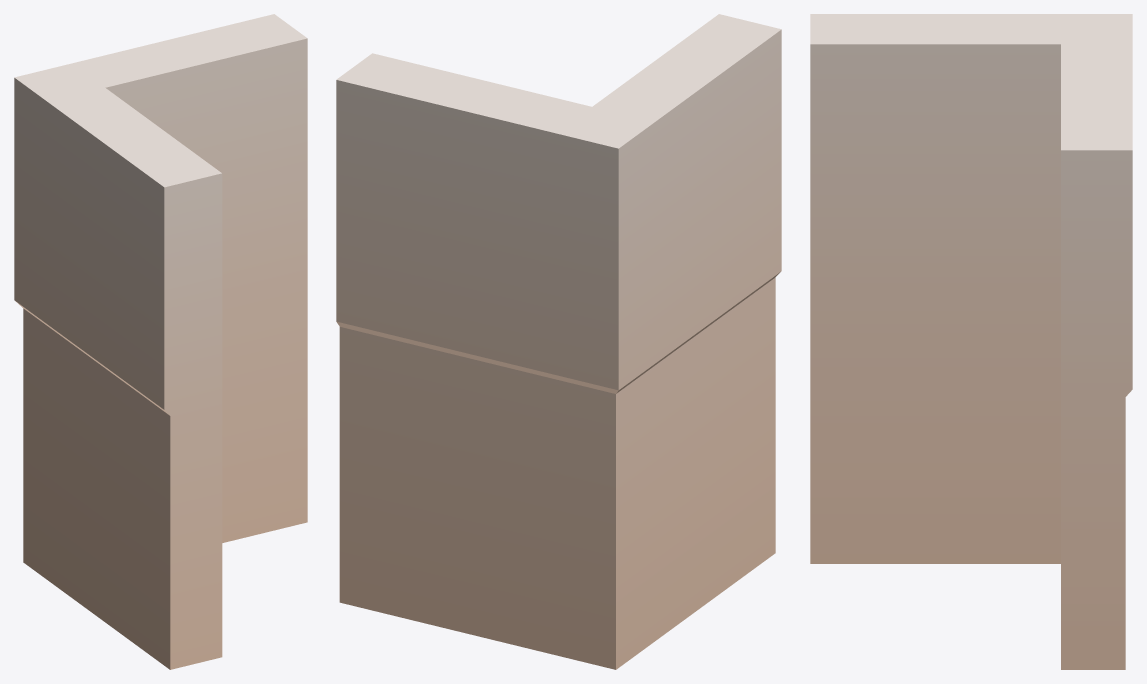
Rendered from Wall Plain Kitchen-Sgh2HG9ERM.glb.
The picture shows the model from 3 angles, left to right: view 1: azimuth 30°, elevation 25°; view 2: azimuth 150°, elevation 25°; view 3: azimuth 270°, elevation 25°; orthographic projection. The views are drawn at different scales.
Parts seen in each view (by area): view 1: wall_plain_kitchen_corner_outer; view 2: wall_plain_kitchen_corner_outer; view 3: wall_plain_kitchen_corner_outer.
Part boxes in pixels (x1,y1,x2,y2): wall_plain_kitchen_corner_outer: (14,14,307,669); wall_plain_kitchen_corner_outer: (336,14,781,669); wall_plain_kitchen_corner_outer: (810,14,1132,669).
Bounding box in the file's own units: 2.25 × 4 × 2.25.
Materials: 1 (1 with a texture image).
